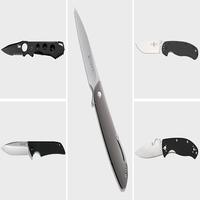knife: (67, 7, 135, 191), (130, 35, 200, 66), (2, 37, 71, 68), (131, 135, 200, 162), (1, 138, 71, 160)
